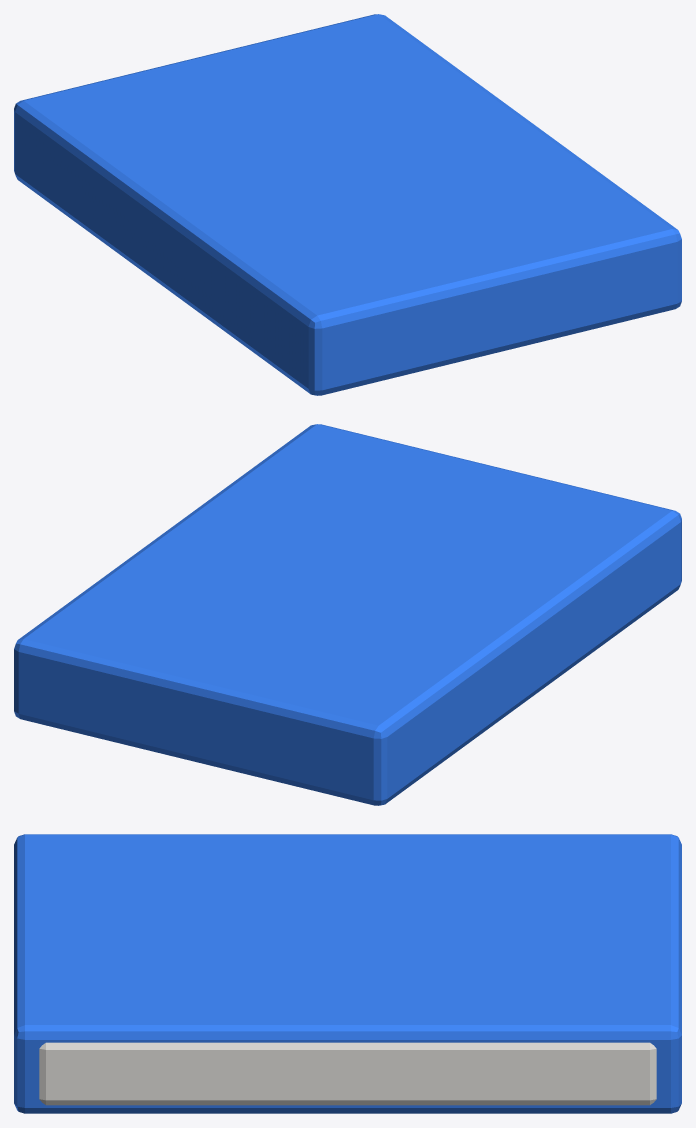
Rendered from book.glb.
The picture shows the model from 3 angles, top to bottom: view 1: azimuth 30°, elevation 25°; view 2: azimuth 150°, elevation 25°; view 3: azimuth 270°, elevation 25°; orthographic projection. The views are drawn at different scales.
Parts seen in each view (by area): view 1: book; view 2: book; view 3: book.
Part boxes in pixels (x1=…): book: x1=14, y1=14, x2=681, y2=395; book: x1=14, y1=424, x2=681, y2=805; book: x1=14, y1=834, x2=681, y2=1113.
Size of the model in its own units: 0.171 by 0.035 by 0.24.
